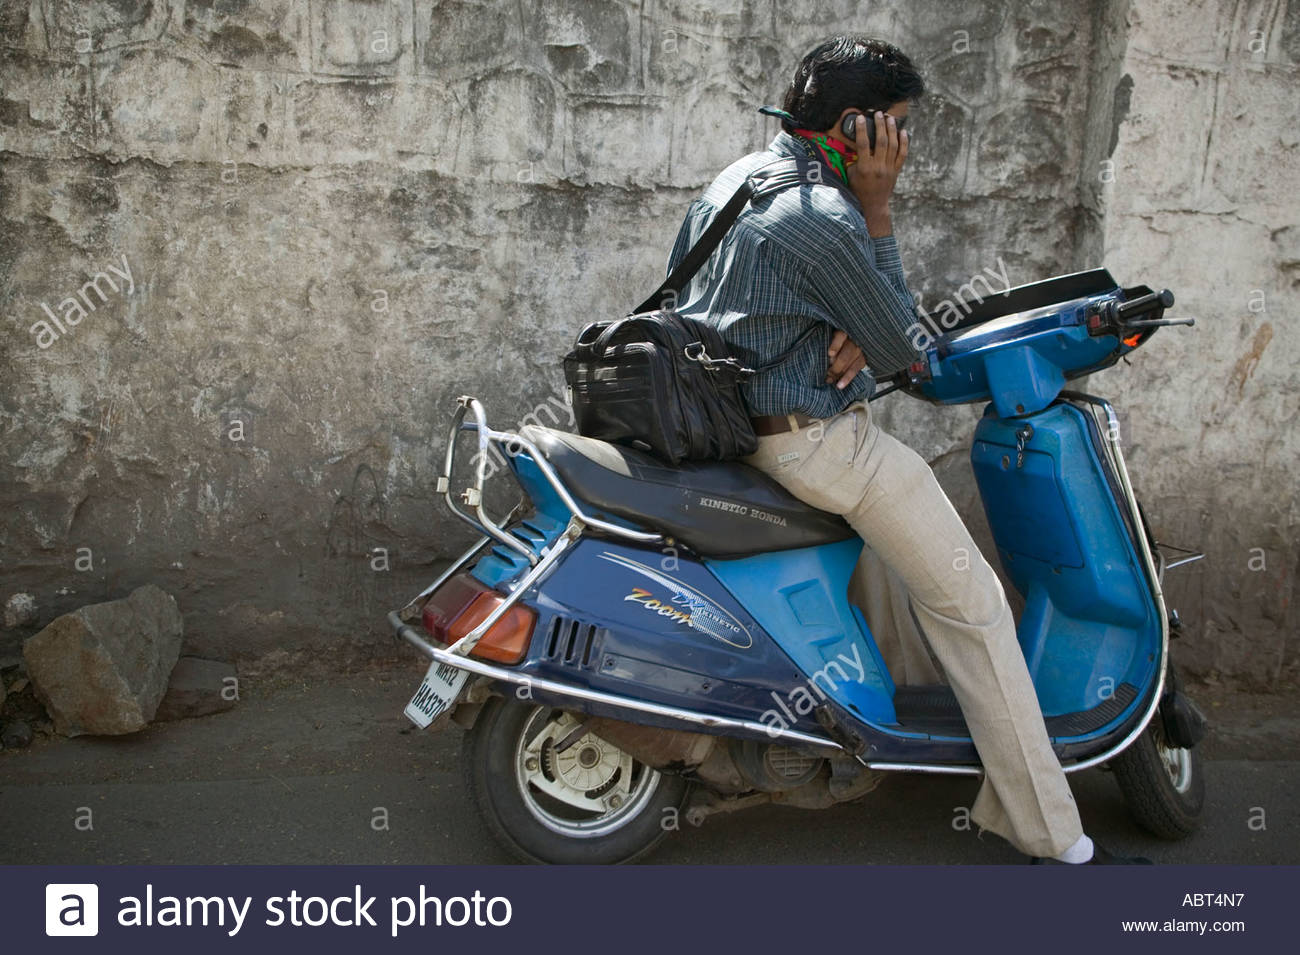su dung dien thoai: (777, 33, 919, 237)
